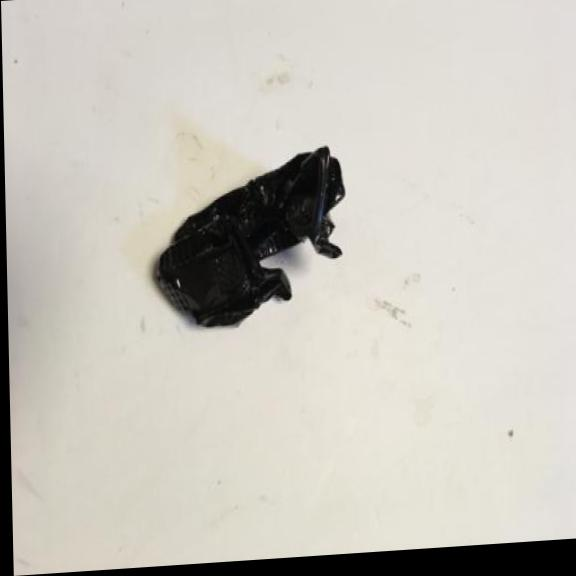Plastik: (146, 135, 361, 341)
